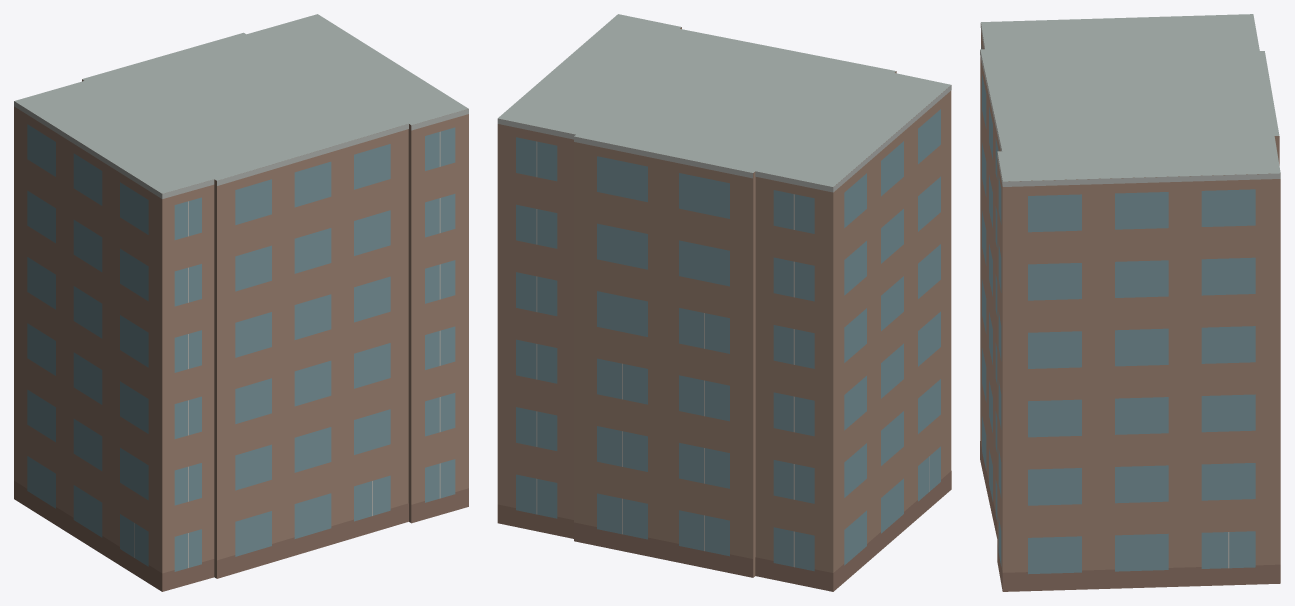
Rendered from survey-upis-32735392.glb.
3 views of the same model, side by side, from view 1: azimuth 30°, elevation 25°; view 2: azimuth 150°, elevation 25°; view 3: azimuth 270°, elevation 25° (orthographic). The views are drawn at different scales.
Parts seen in each view (by area): view 1: survey-upis-32735392.tmp; view 2: survey-upis-32735392.tmp; view 3: survey-upis-32735392.tmp.
Boxes of the visible parts, left/top/right/bottom form: survey-upis-32735392.tmp: left=14, top=14, right=468, bottom=591; survey-upis-32735392.tmp: left=497, top=14, right=951, bottom=591; survey-upis-32735392.tmp: left=980, top=14, right=1280, bottom=591.
Size of the model in its own units: 16.04 by 18.3 by 12.16.
